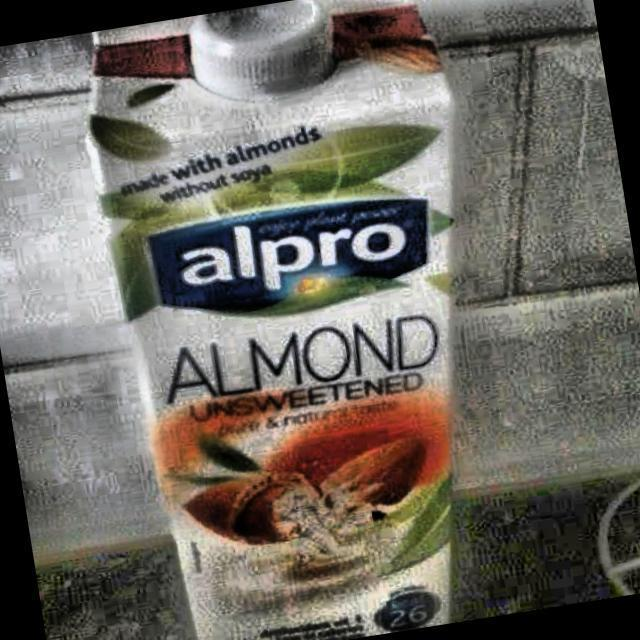cardboard: (69, 0, 536, 640)
